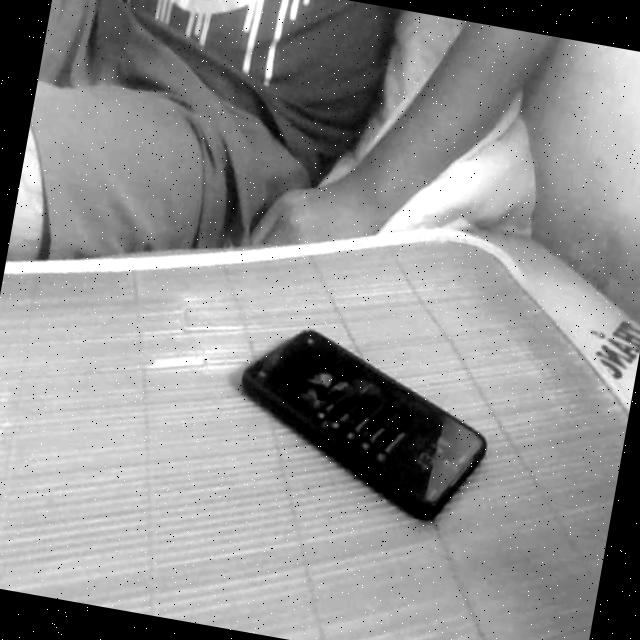phone: (197, 295, 525, 551)
